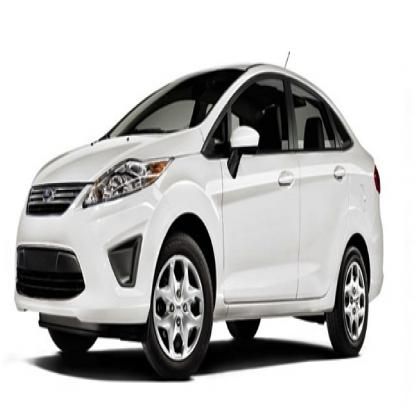Vehicle: (15, 62, 386, 378)
